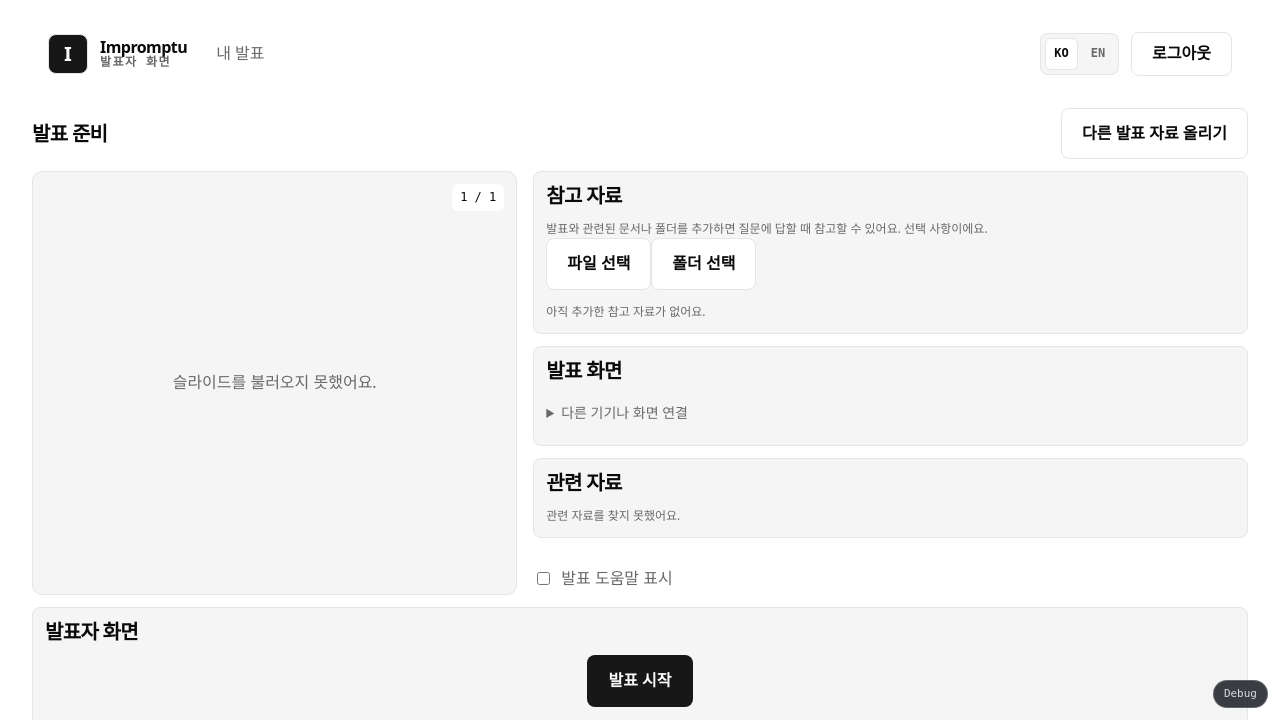
Test case: Cockpit rail phases › renders no coaching panel block until opt-in, keeping the opt-in control reachable
What coordinates should you click on to do the following:
click the checkbox labelled "발표 도움말 표시"
I would click on:
 (544, 578)
Its box is [537,572,550,585].
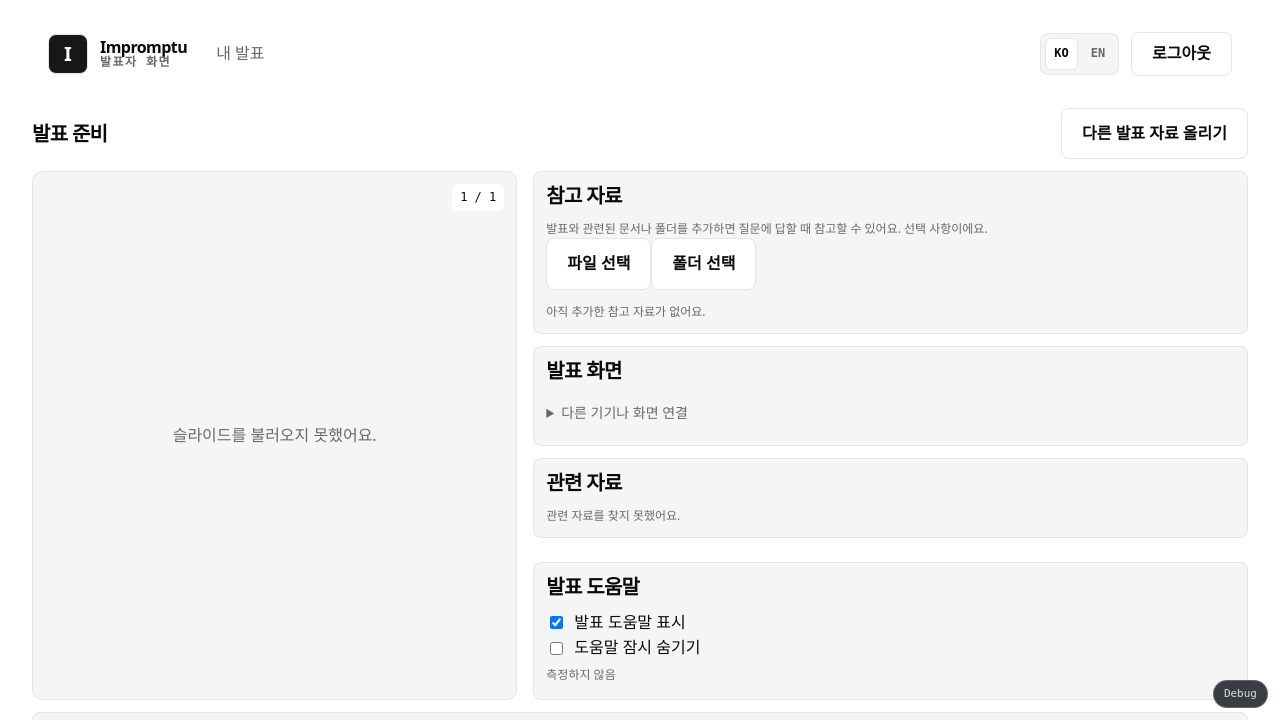
Expected: the element with class "console-coaching" is shown, [533,562,1248,700]
